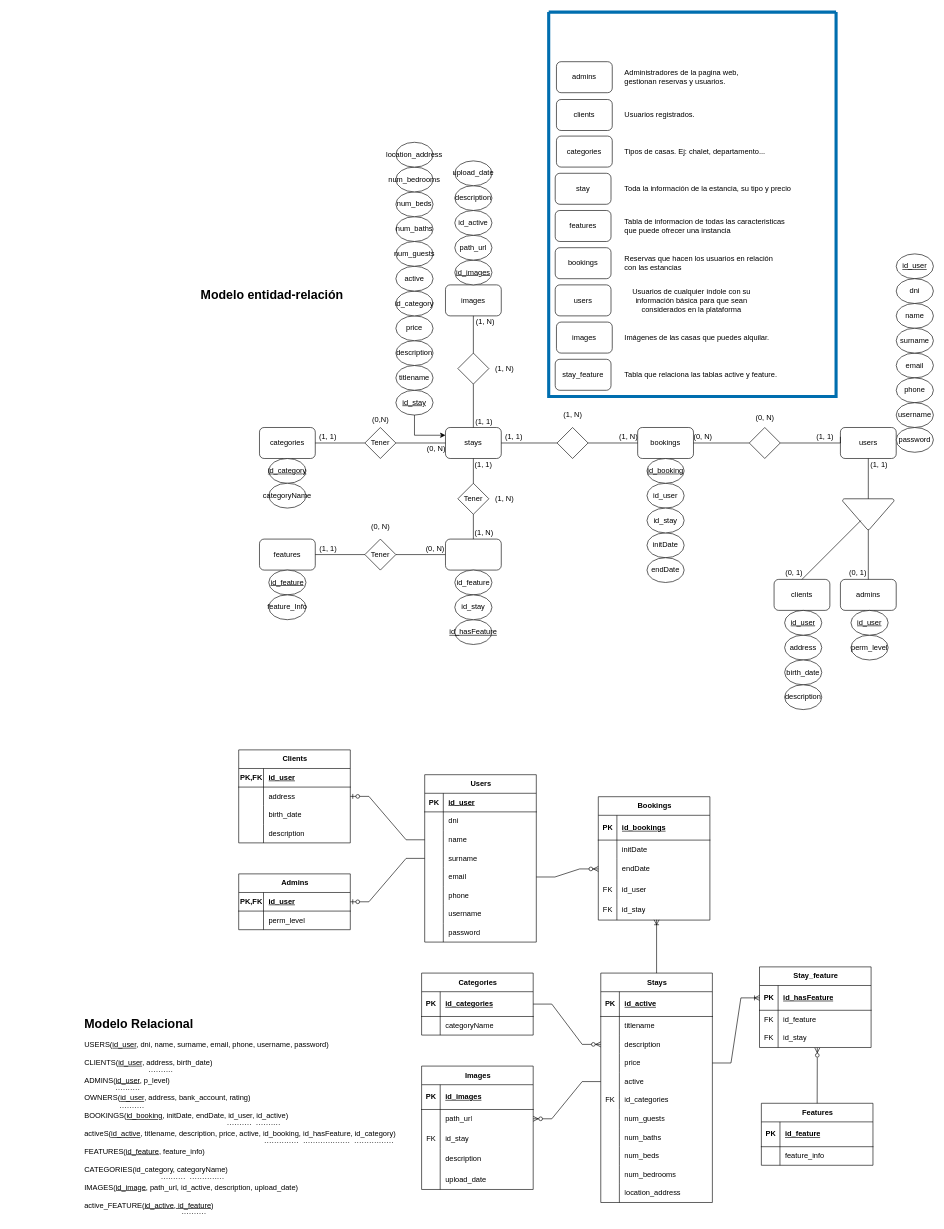
Some shapes in this 944 by 1229 pixel diagram are drawn without their labels. The shapes that lost their labels are listed below. From the top down, each one's centre as x and y in pixels, then its label:
At pixel 473 368: "Contener".
At pixel 572 442: "Enlazar".
At pixel 764 442: "Realiza".
At pixel 868 514: "es un".
At pixel 473 554: "stay _feature".
